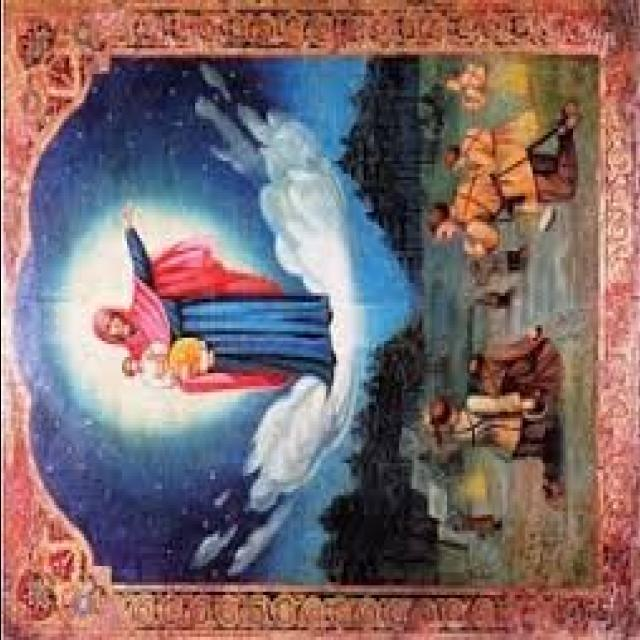mother of god: (92, 228, 340, 412)
